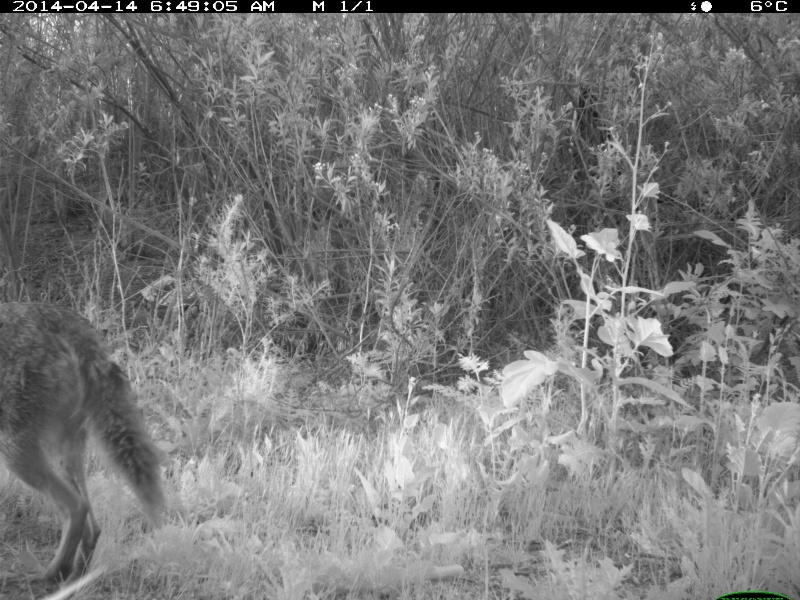coyote: (1, 292, 175, 592)
